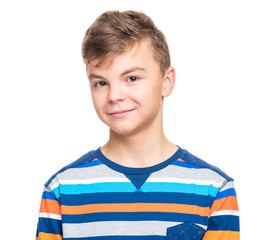teen: (76, 9, 178, 141)
